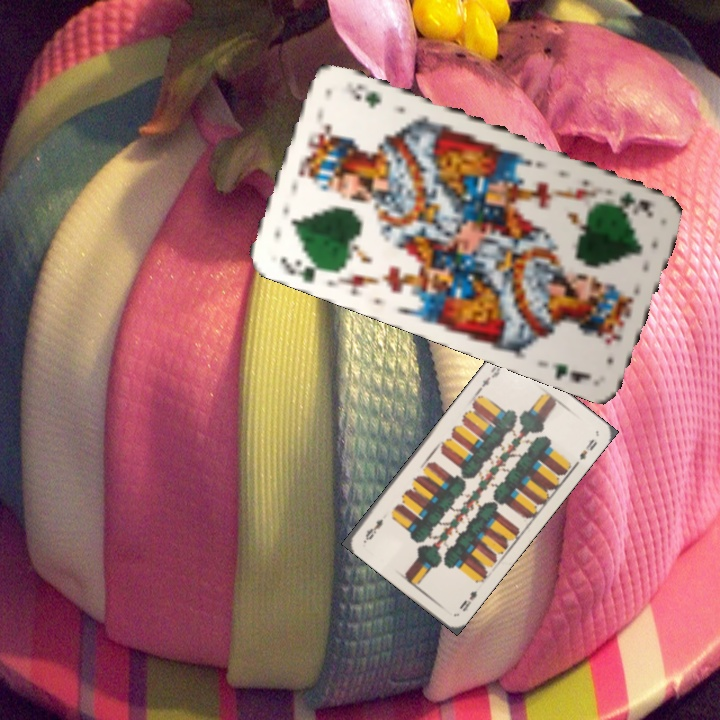E9: (475, 359, 504, 393), (455, 586, 480, 614)
GK: (277, 252, 327, 285), (614, 187, 657, 218)
